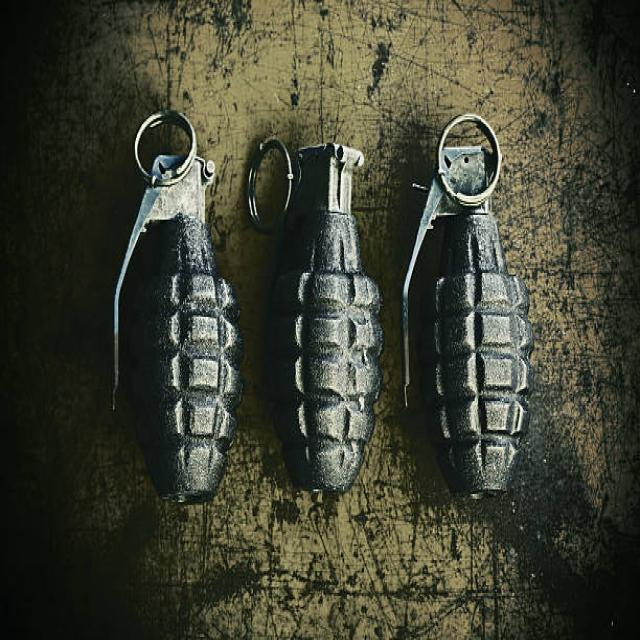grenade: (105, 111, 249, 514), (246, 134, 390, 495)
